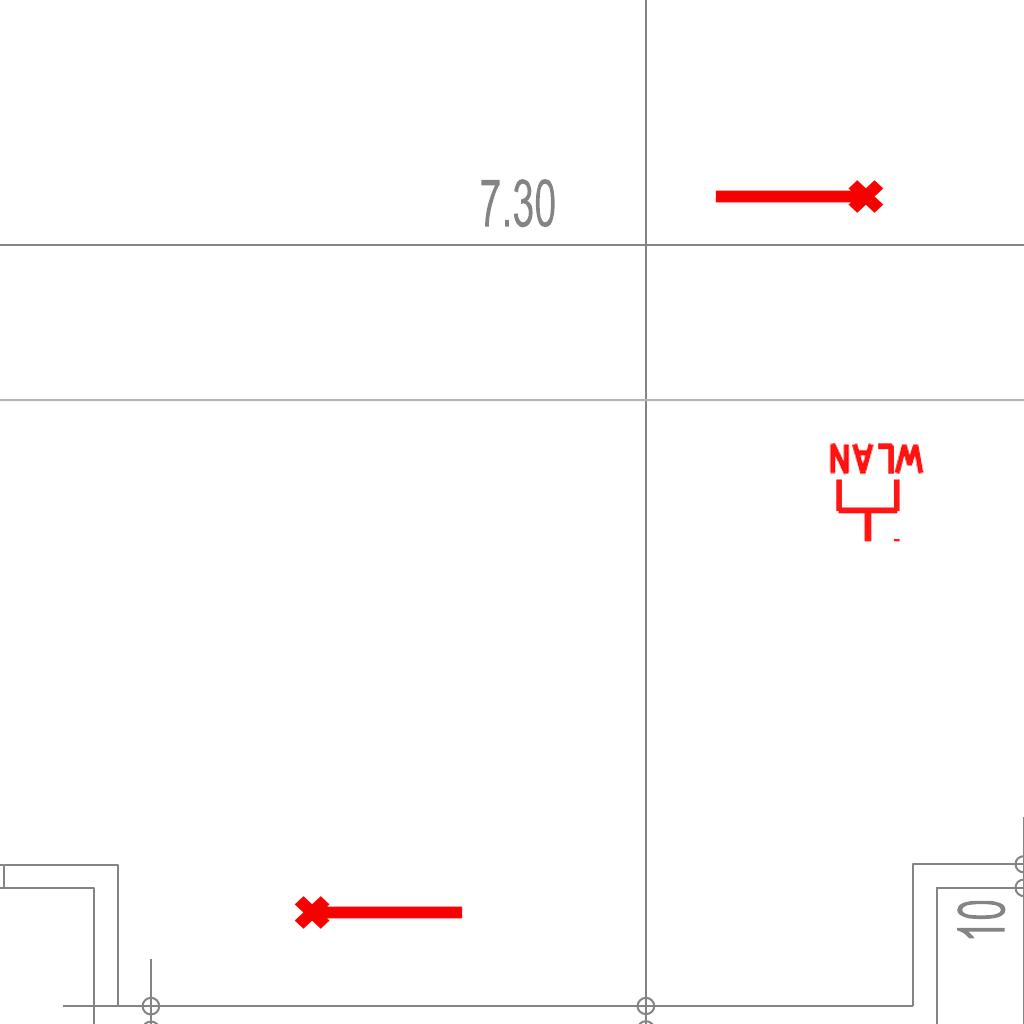ASR_Ansaugoeffnung: (710, 176, 886, 222), (292, 887, 468, 933)
WLAN: (825, 441, 929, 546)
